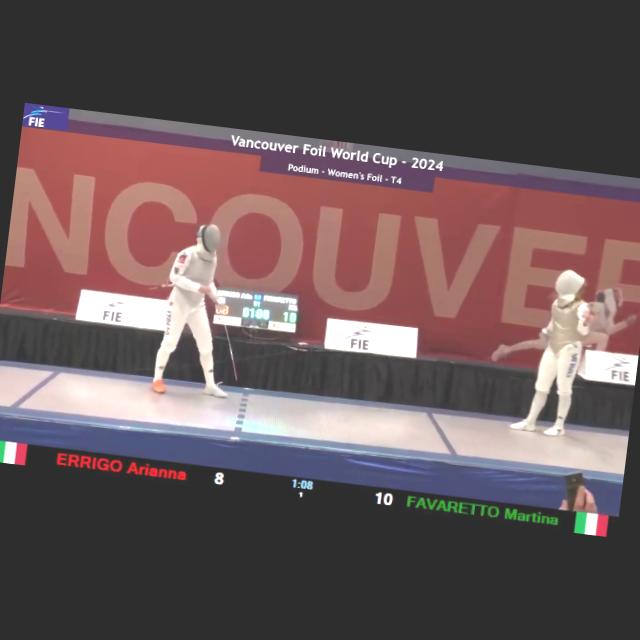blade: (200, 290, 249, 384)
